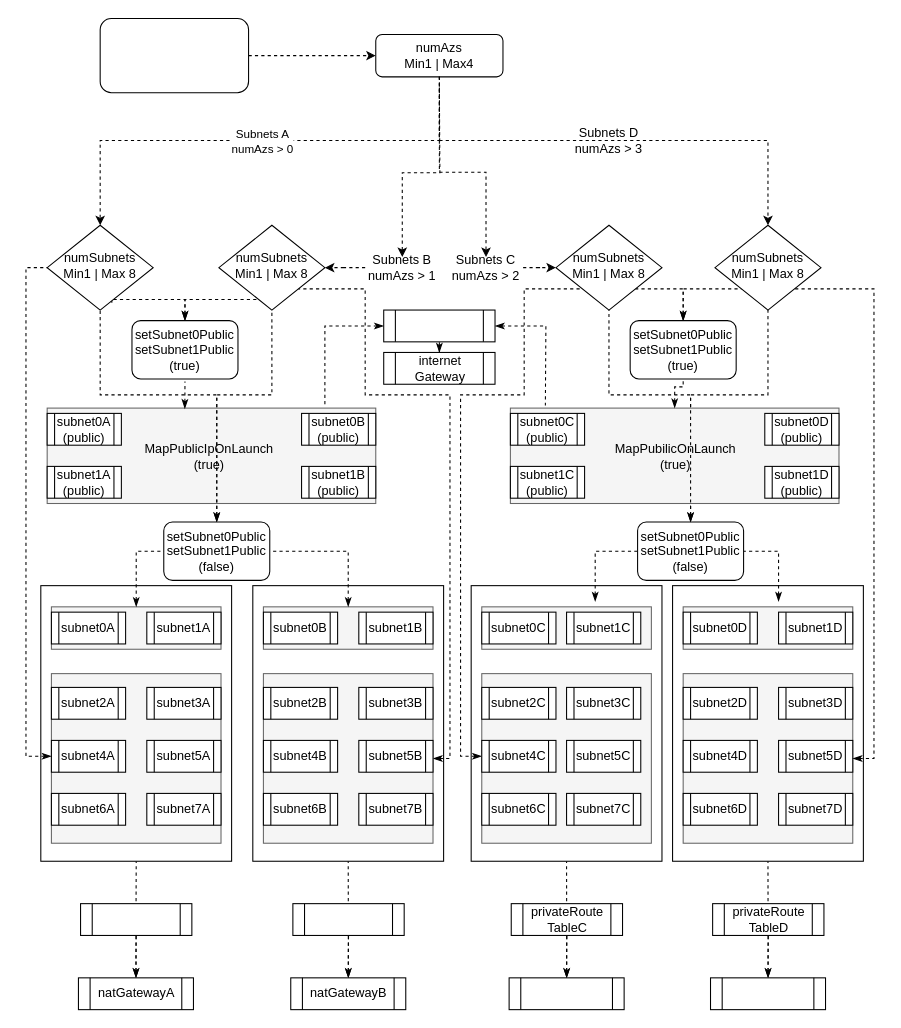
Image size: 901x1028. Some labels were removed from this diagram. Here are the shapes that lost their labels. From the top down, the box of each, then its label:
(99, 17, 249, 93): vpcCidr (assigned to VPC) vpcTenancy (assined to VPC)
(383, 309, 495, 342): publicSubnet RouteTableId
(80, 903, 192, 935): privateRoute TableA
(292, 903, 404, 935): privateRoute TableB
(508, 977, 624, 1010): natGatewayC
(709, 977, 826, 1010): natGatewayD
